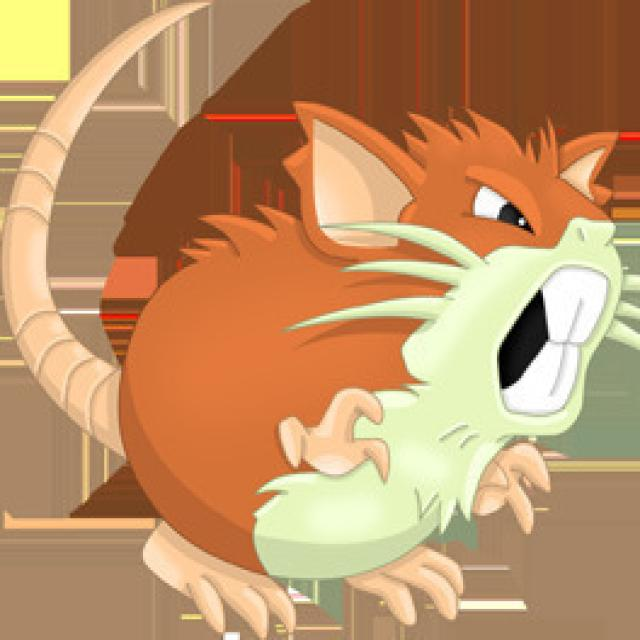Raticate: (125, 82, 612, 594)
